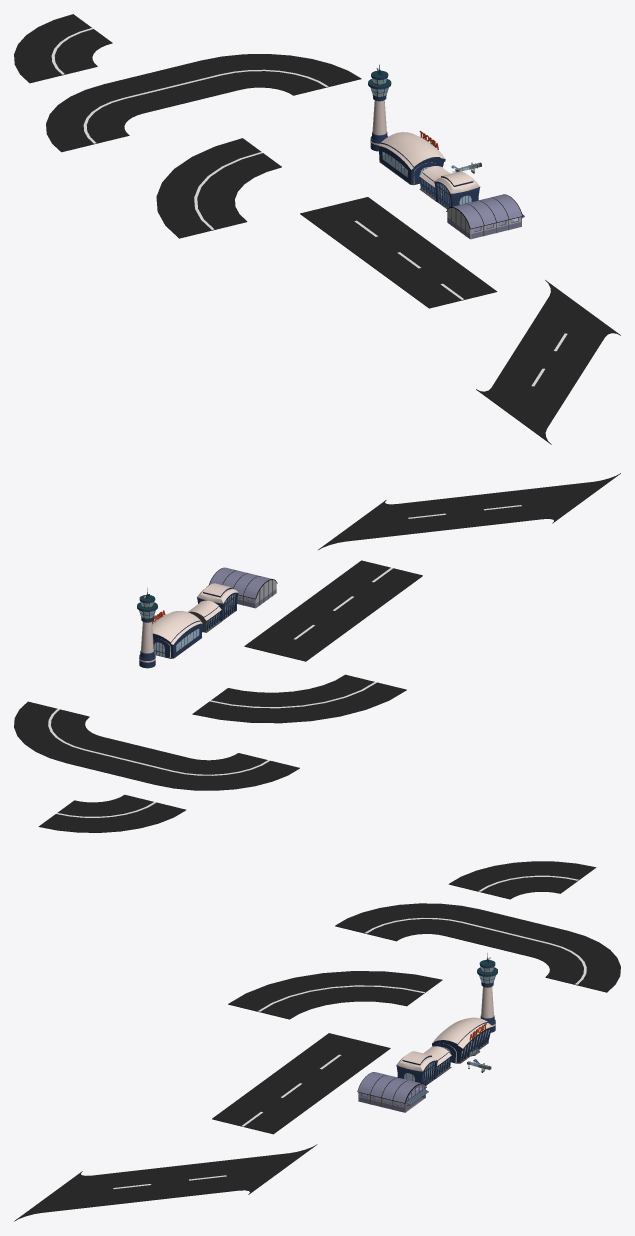
The model's file is airport_outside_building_pack.glb.
The picture shows the model from 3 angles, top to bottom: view 1: azimuth 30°, elevation 25°; view 2: azimuth 150°, elevation 25°; view 3: azimuth 330°, elevation 25°; orthographic projection. The views are drawn at different scales.
Visible parts, largest first — view 1: LandingTrack2Curve, LandingTrack5StraightAngled, LandingTrack1Straight, LandingTrack3Curve2, LandingTrack4Curve3, 04.Hangar, 07.Modulo1, 07.Modulo2, 02.ControlTower; view 2: LandingTrack2Curve, LandingTrack5StraightAngled, LandingTrack1Straight, LandingTrack3Curve2, LandingTrack4Curve3, 07.Modulo1, 04.Hangar, 07.Modulo2, 02.ControlTower; view 3: LandingTrack2Curve, LandingTrack5StraightAngled, LandingTrack1Straight, LandingTrack3Curve2, LandingTrack4Curve3, 04.Hangar, 07.Modulo1, 07.Modulo2, 02.ControlTower.
Part boxes in pixels (left/top/right/bottom): LandingTrack2Curve: left=46, top=54, right=361, bottom=152; LandingTrack5StraightAngled: left=476, top=280, right=620, bottom=444; LandingTrack1Straight: left=300, top=197, right=497, bottom=308; LandingTrack3Curve2: left=156, top=138, right=281, bottom=238; LandingTrack4Curve3: left=14, top=14, right=112, bottom=83; 04.Hangar: left=446, top=194, right=524, bottom=239; 07.Modulo1: left=378, top=131, right=445, bottom=185; 07.Modulo2: left=419, top=166, right=480, bottom=209; 02.ControlTower: left=368, top=64, right=391, bottom=151; LandingTrack2Curve: left=14, top=701, right=299, bottom=790; LandingTrack5StraightAngled: left=318, top=473, right=620, bottom=549; LandingTrack1Straight: left=244, top=560, right=422, bottom=661; LandingTrack3Curve2: left=192, top=674, right=406, bottom=723; LandingTrack4Curve3: left=38, top=794, right=185, bottom=832; 07.Modulo1: left=152, top=610, right=202, bottom=658; 04.Hangar: left=206, top=567, right=277, bottom=608; 07.Modulo2: left=187, top=583, right=238, bottom=632; 02.ControlTower: left=137, top=588, right=157, bottom=668; LandingTrack2Curve: left=335, top=903, right=620, bottom=992; LandingTrack5StraightAngled: left=14, top=1144, right=317, bottom=1221; LandingTrack1Straight: left=212, top=1033, right=390, bottom=1134; LandingTrack3Curve2: left=228, top=971, right=442, bottom=1019; LandingTrack4Curve3: left=448, top=861, right=596, bottom=899; 04.Hangar: left=357, top=1072, right=428, bottom=1112; 07.Modulo1: left=432, top=1017, right=492, bottom=1063; 07.Modulo2: left=396, top=1046, right=451, bottom=1085; 02.ControlTower: left=477, top=953, right=497, bottom=1032.
Size of what is drawn, in the model's own units: 361 by 101 by 1168.
Materials: 1 (1 with a texture image).
